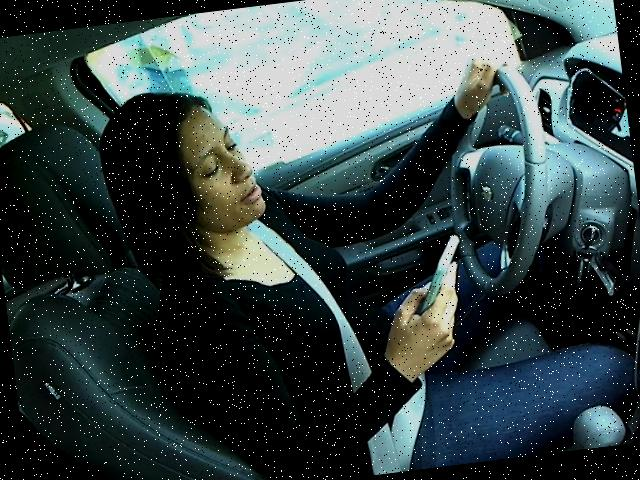c1 - Texting: (83, 27, 586, 479)
